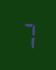seven: (19, 19, 34, 50)
